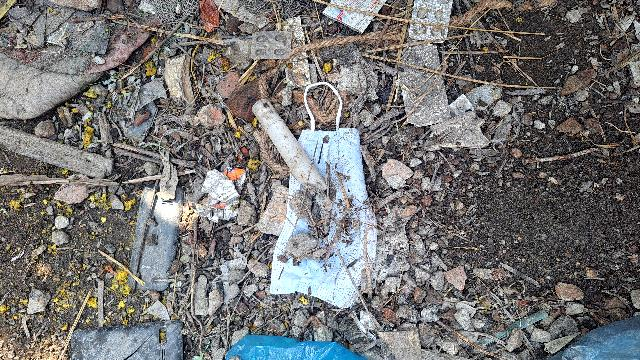mask: (271, 122, 379, 299)
